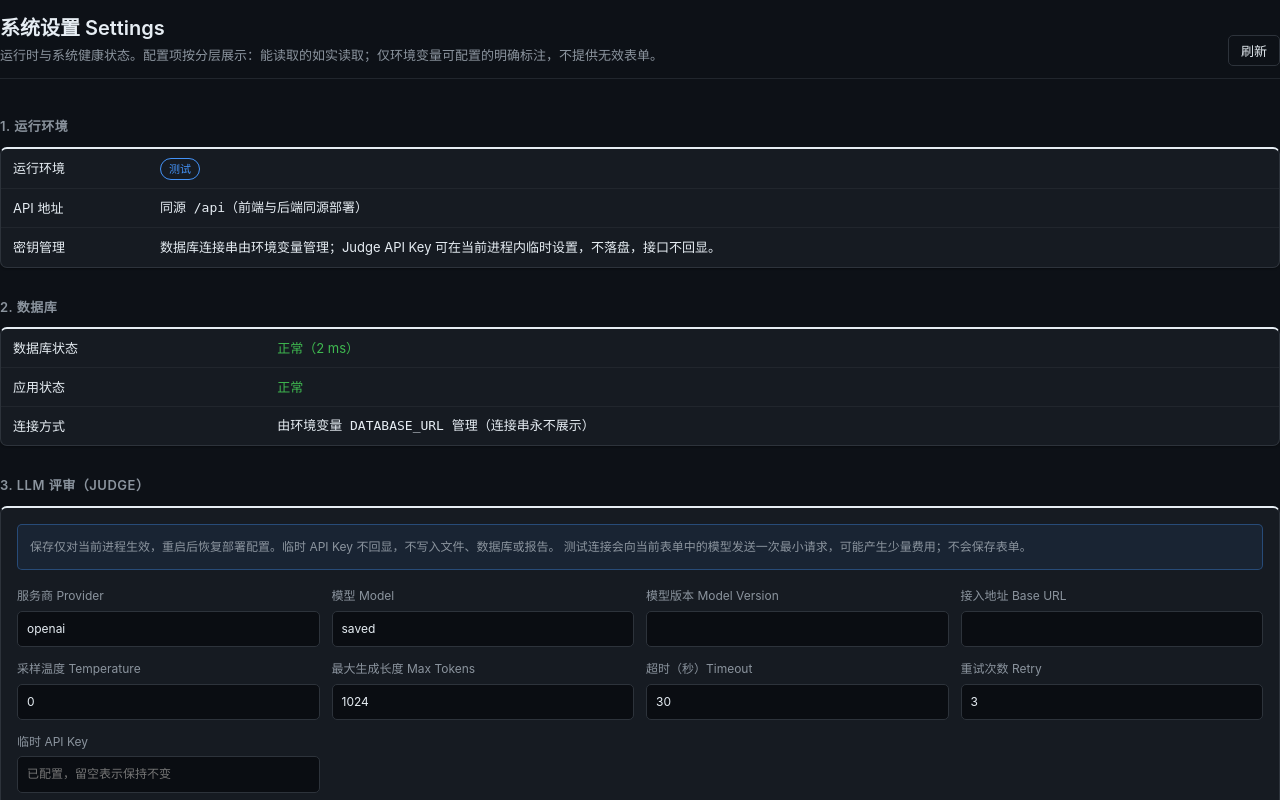
Test case: 测试连接发送当前草稿，返回失败时展示具体原因，不保存草稿
Replace the text in the field labelled "模型 Model" with "draft-model" at x=483, y=629, box [332,611,634,647]
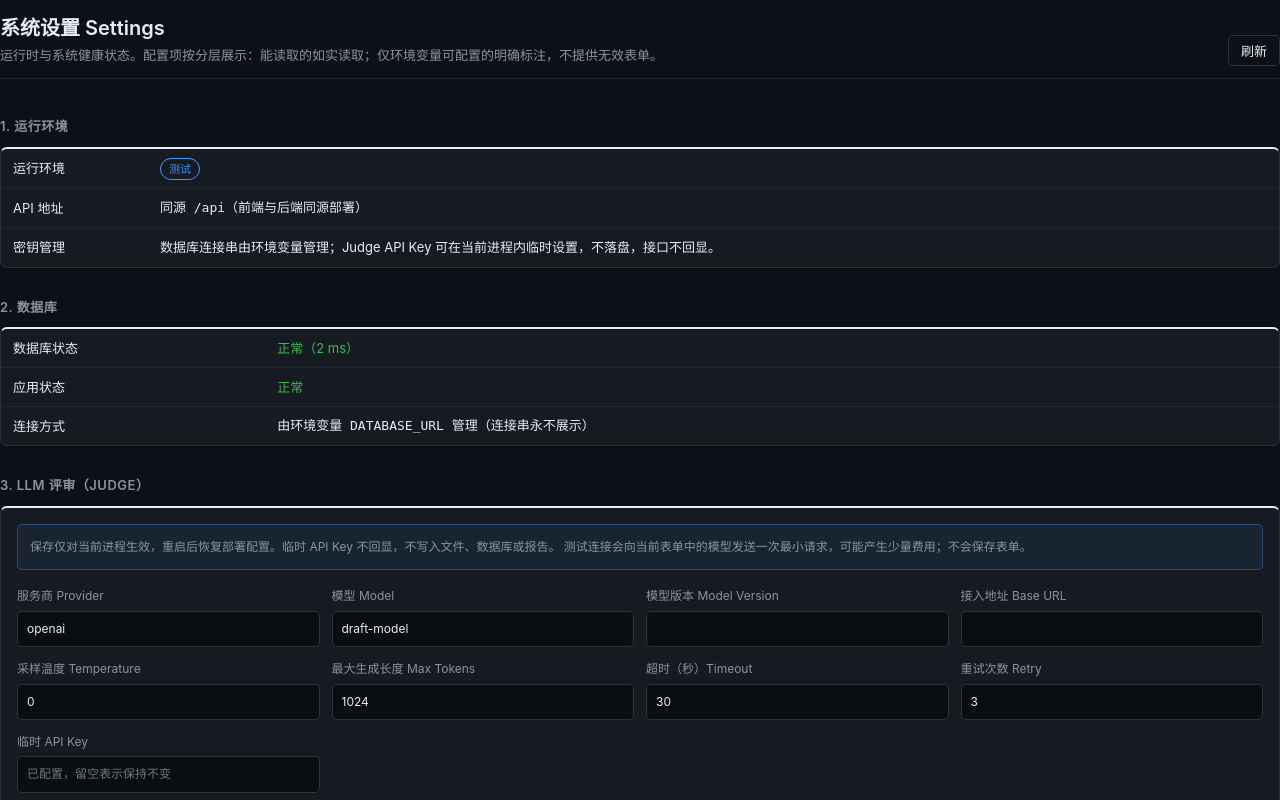
Type "draft-secret" into the password field labelled "临时 API Key" at x=168, y=775, box [17,756,320,793]
(page scrolled)
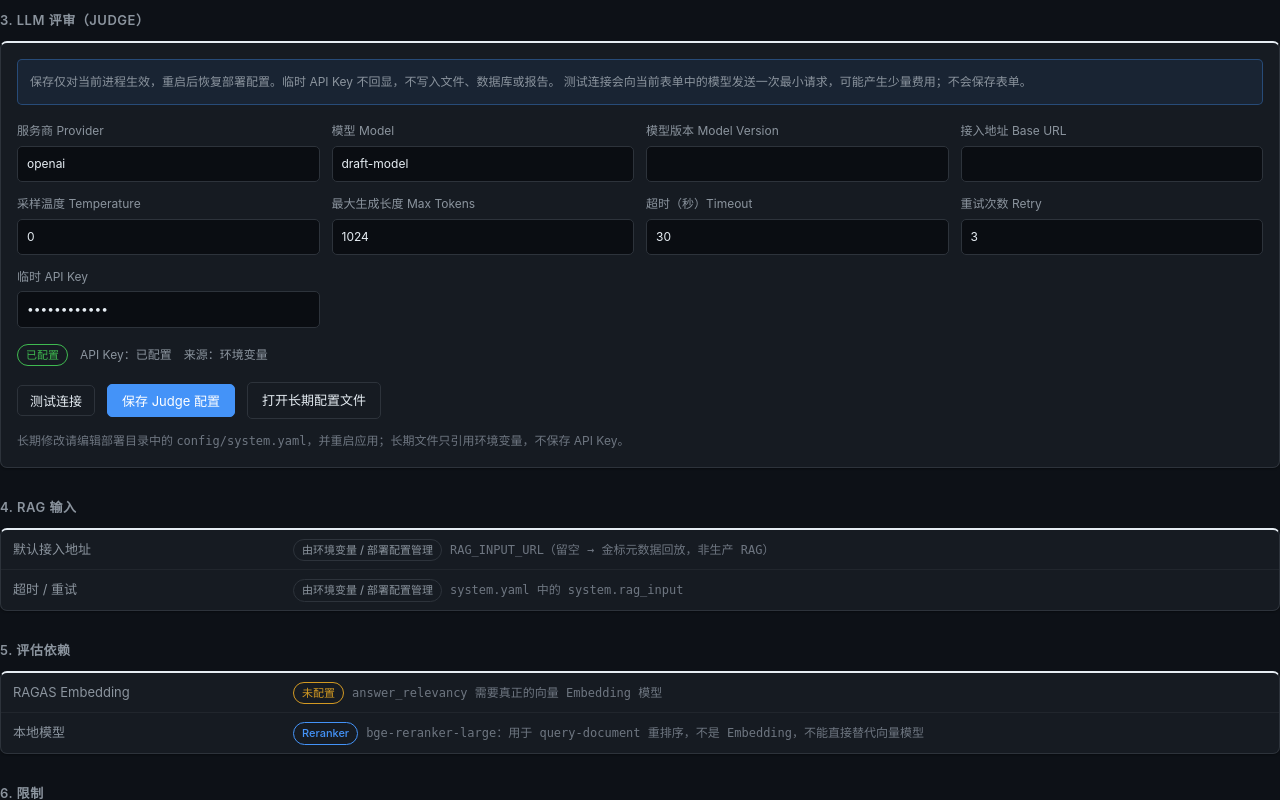
Click the button "测试连接" at x=56, y=400, box [17,385,95,416]
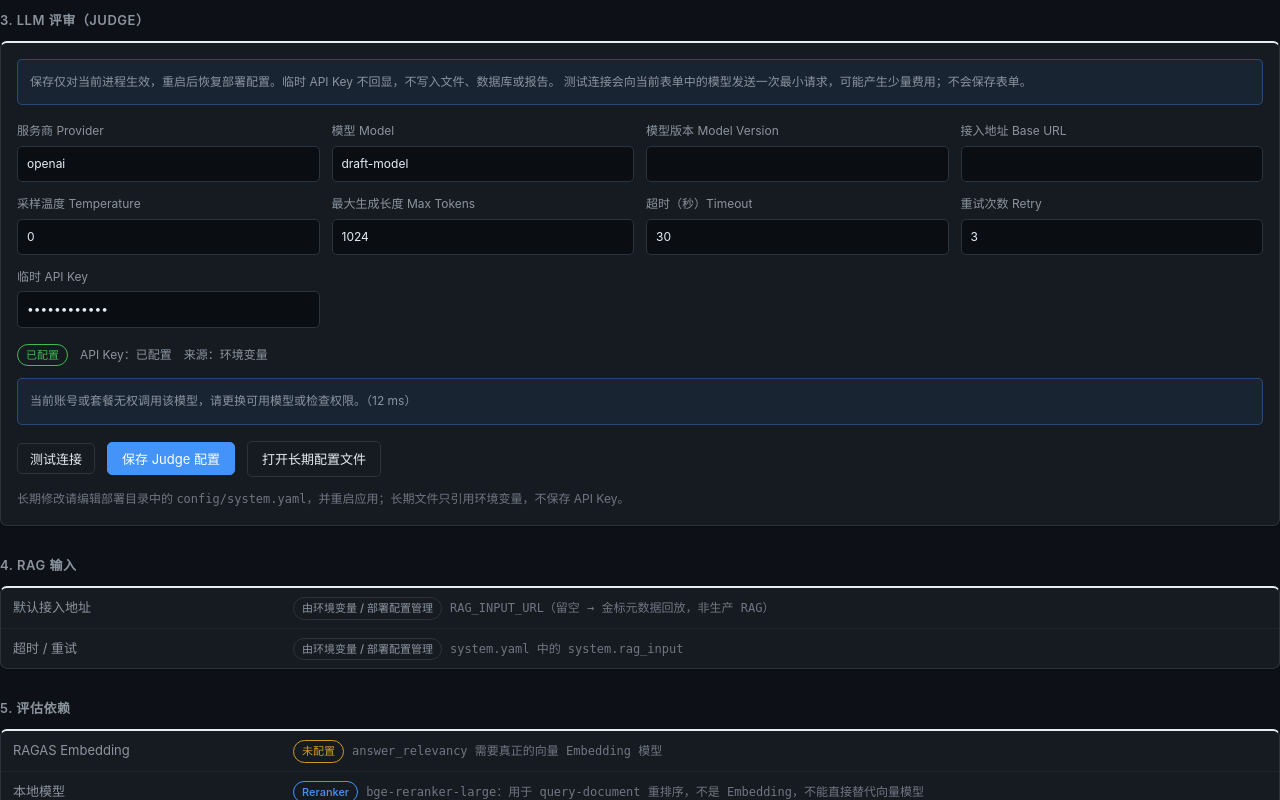
Result: the text "当前账号或套餐无权调用该模型，请更换可用模型或检查权限。（12 ms）" is shown at [17,378,1263,425]
